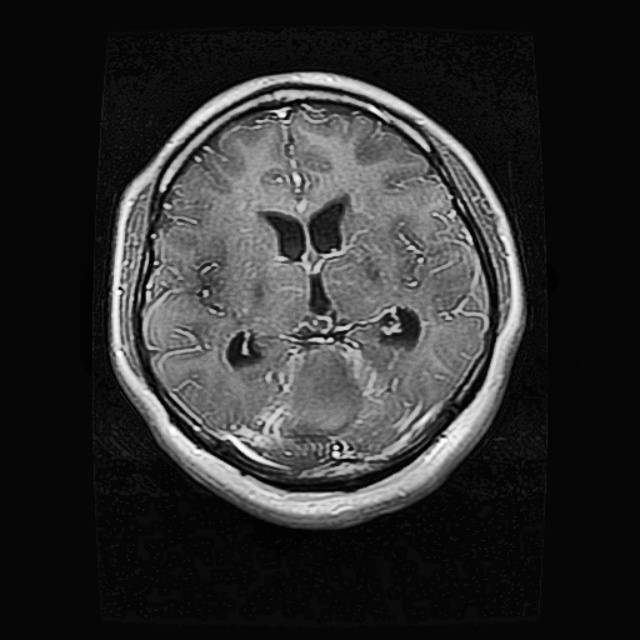Glioma: (248, 342, 430, 469)
